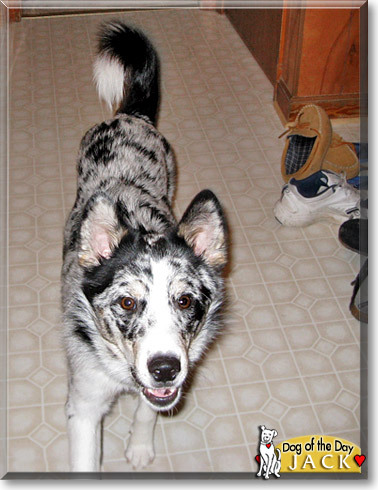dog: (57, 15, 231, 474)
